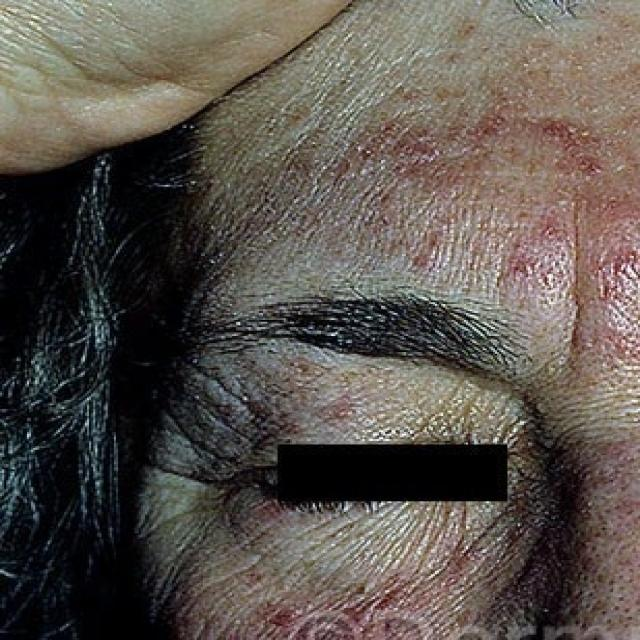Rosacea: (360, 125, 640, 297)
